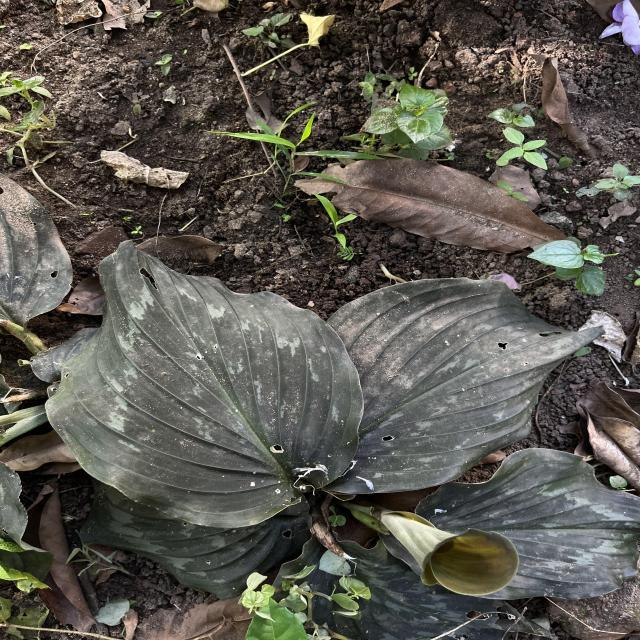Kaempferia galanga linn: (41, 237, 367, 531), (326, 276, 608, 498), (413, 444, 640, 602)
